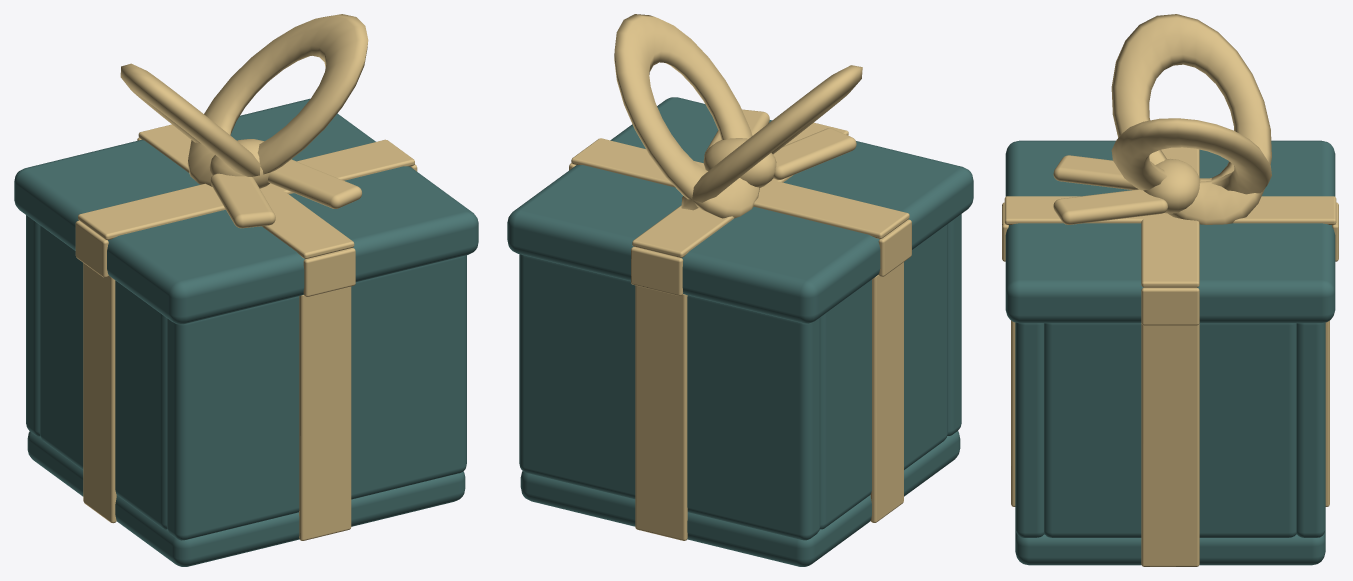
Rendered from gift-snow-3.glb.
3 views of the same model, side by side, from view 1: azimuth 30°, elevation 25°; view 2: azimuth 150°, elevation 25°; view 3: azimuth 270°, elevation 25° (orthographic).
Visible parts, largest first — view 1: Gift_Body, Gift_Lid, Gift_Bow_Loop_R, Gift_Bow, Gift_Bow_Loop_L; view 2: Gift_Body, Gift_Lid, Gift_Bow_Loop_R, Gift_Bow_Loop_L, Gift_Bow; view 3: Gift_Body, Gift_Lid, Gift_Bow_Loop_L, Gift_Bow_Loop_R, Gift_Bow.
Boxes of the visible parts, x1,y1,x2,y2 form: Gift_Body: [26, 215, 466, 566]; Gift_Lid: [14, 98, 478, 324]; Gift_Bow_Loop_R: [187, 14, 368, 186]; Gift_Bow: [209, 139, 362, 228]; Gift_Bow_Loop_L: [120, 63, 260, 176]; Gift_Body: [519, 214, 961, 566]; Gift_Lid: [507, 97, 973, 323]; Gift_Bow_Loop_R: [614, 14, 759, 218]; Gift_Bow_Loop_L: [681, 65, 862, 210]; Gift_Bow: [703, 109, 856, 188]; Gift_Body: [1011, 320, 1329, 566]; Gift_Lid: [1002, 140, 1338, 325]; Gift_Bow_Loop_L: [1111, 14, 1271, 224]; Gift_Bow_Loop_R: [1111, 118, 1271, 194]; Gift_Bow: [1053, 155, 1200, 224].
Size of the model in its own units: 0.928 by 1.23 by 0.868.
